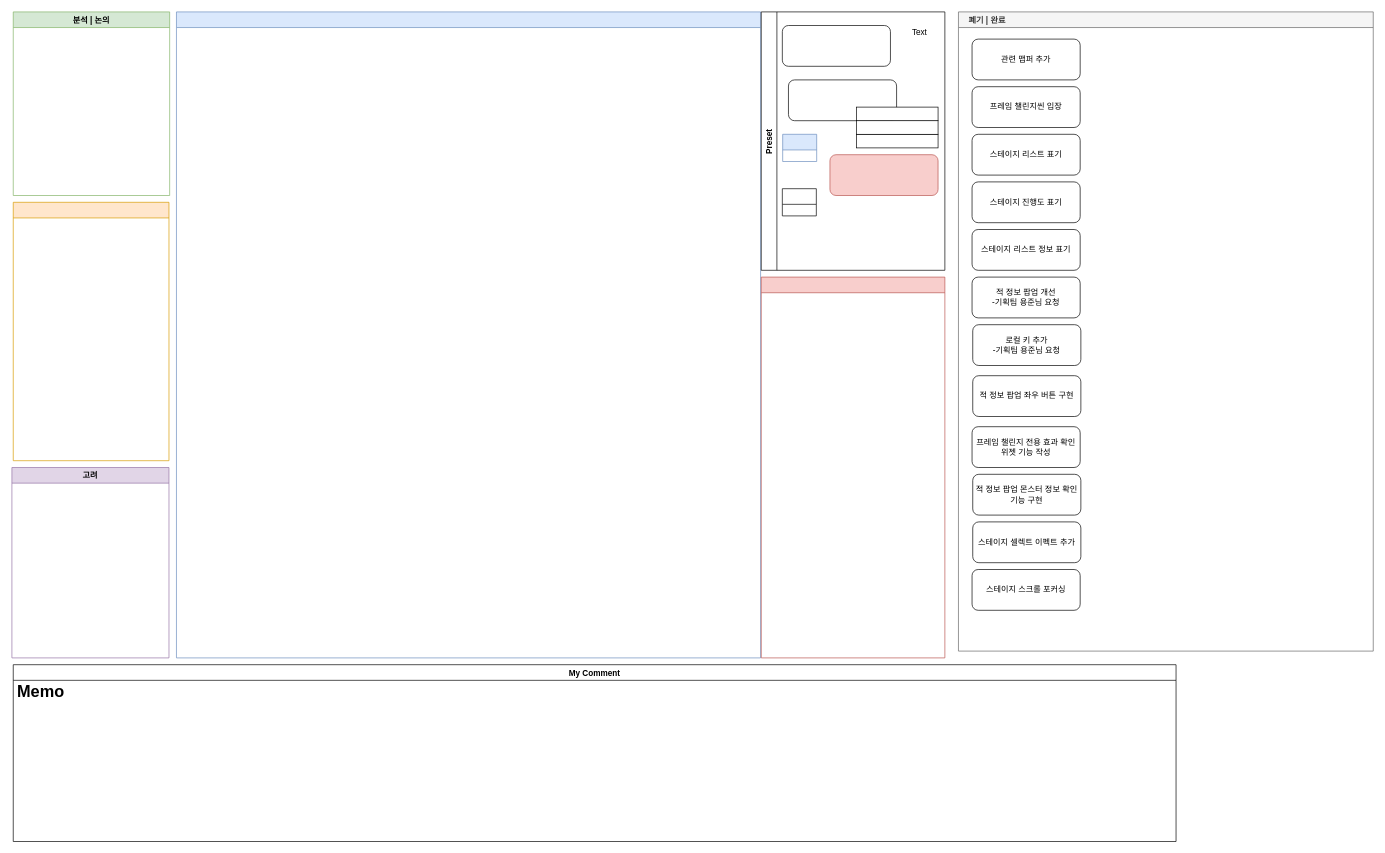
Image size: 1385x853. Some labels were removed from this diagram. Each missing label, with the centre of its shape:
"구현" goes at (x=468, y=334).
"대기 | 요청" goes at (x=91, y=331).
"에러 | 수정" goes at (x=853, y=467).
